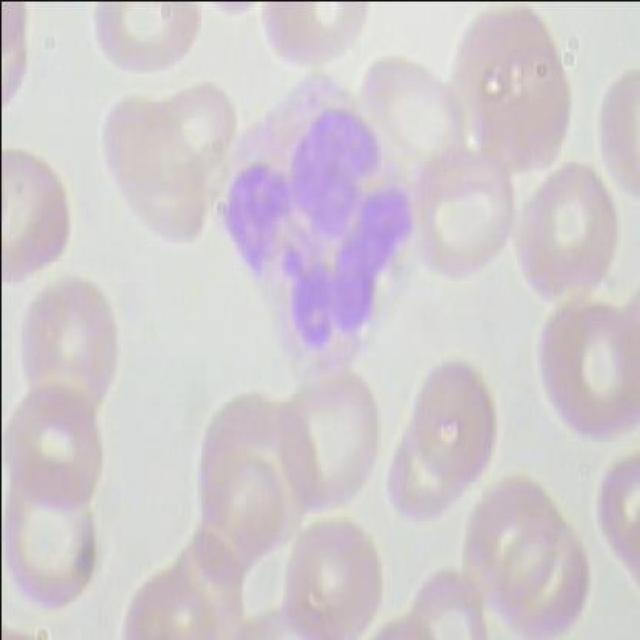RBC: (90, 86, 205, 251), (268, 354, 384, 517), (9, 269, 123, 422), (506, 162, 620, 310), (396, 342, 510, 490), (1, 480, 110, 618), (271, 511, 386, 638), (0, 382, 111, 513), (414, 146, 512, 291)
WBC: (199, 60, 427, 378)
